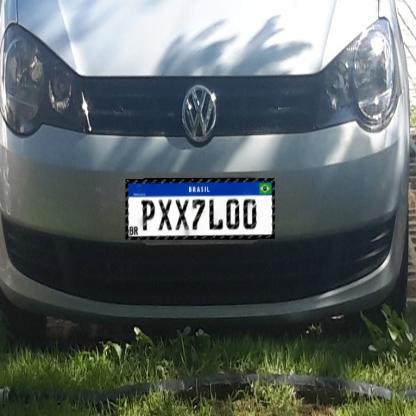PlacaM: (125, 178, 275, 240)
